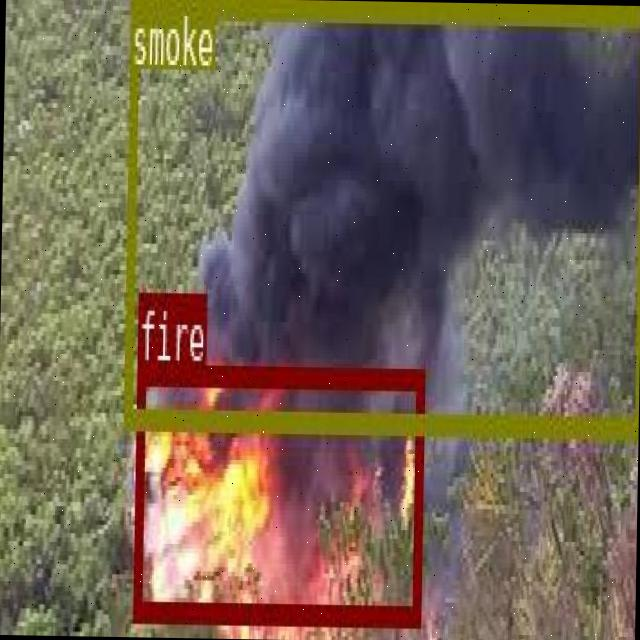fire: (133, 360, 422, 623)
smoke: (123, 0, 640, 435)
